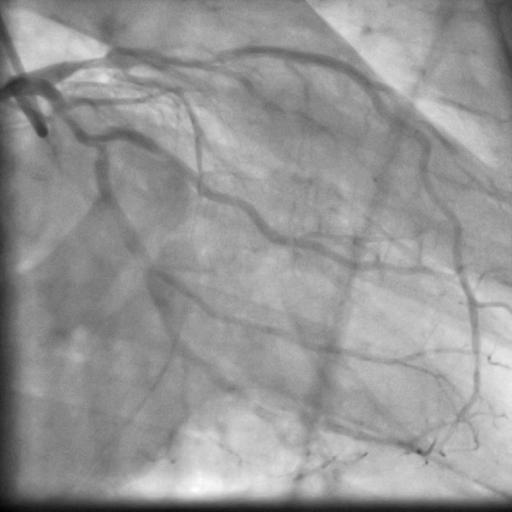Stenosis: (184, 46, 227, 64)
